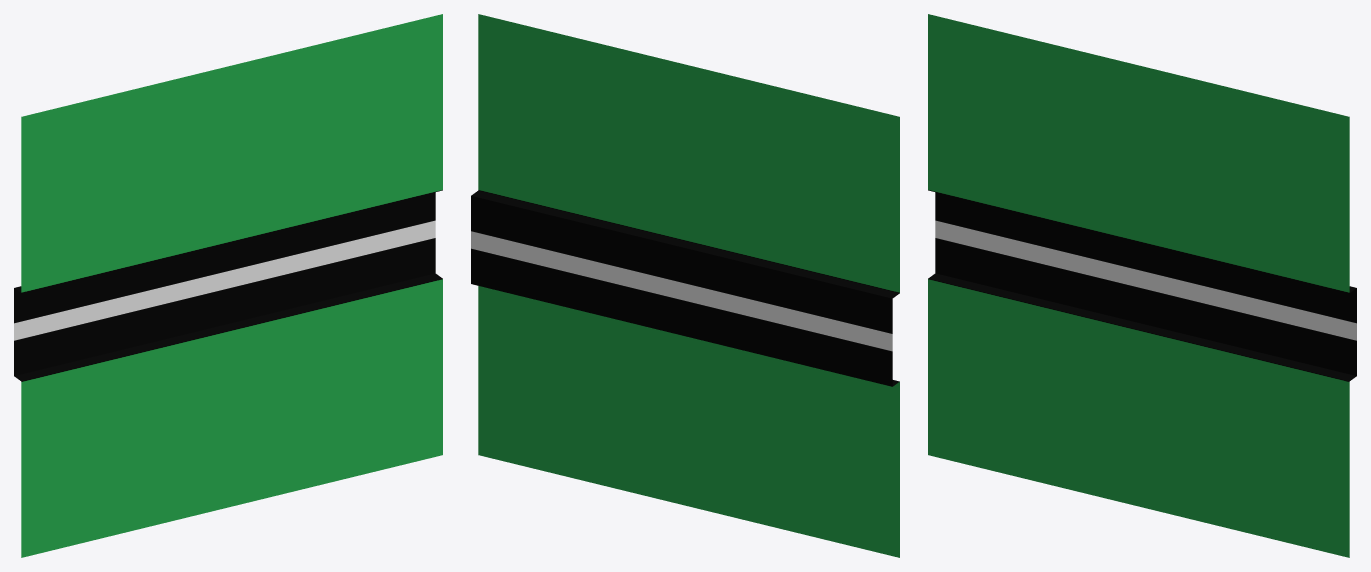
The model's file is forest_road.obj.
3 views of the same model, side by side, from view 1: azimuth 30°, elevation 25°; view 2: azimuth 150°, elevation 25°; view 3: azimuth 330°, elevation 25° (orthographic).
Parts seen in each view (by area): view 1: Plane; view 2: Plane; view 3: Plane.
Part boxes in pixels (x1,y1,x2,y2): Plane: [14, 14, 442, 557]; Plane: [471, 14, 899, 557]; Plane: [928, 14, 1356, 557].
Bounding box in the file's own units: 10 × 10 × 0.3.
Materials: 1 (1 with a texture image).
